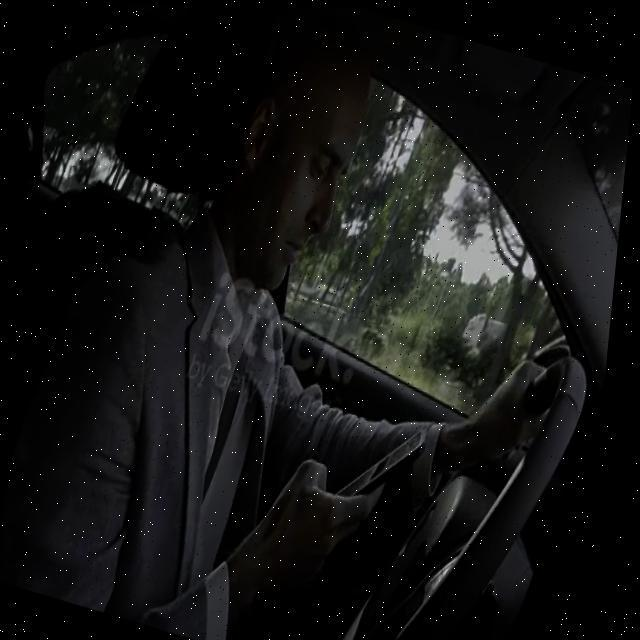PhoneCall: (330, 408, 442, 522)
